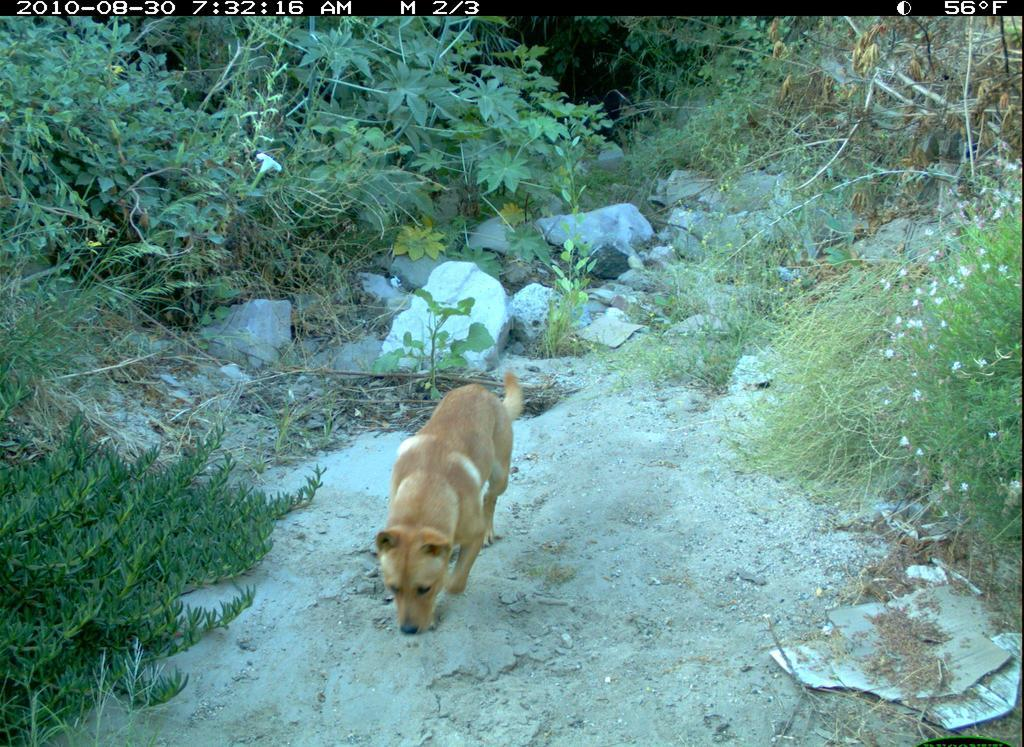dog: (356, 345, 548, 649)
